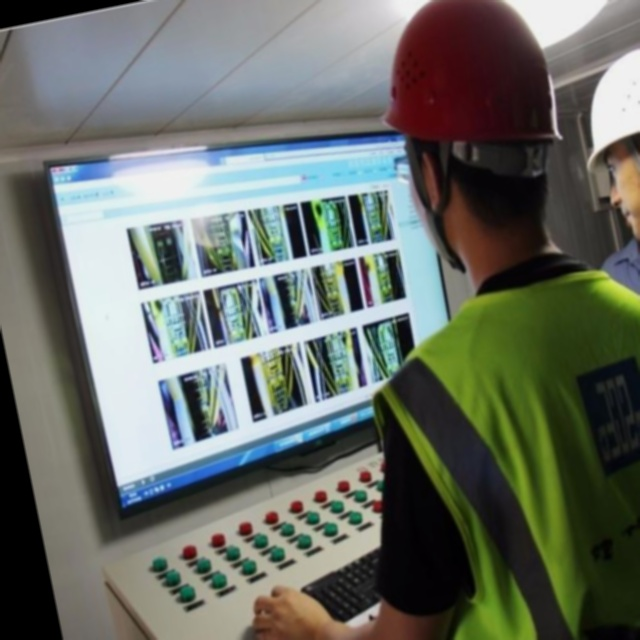Con_Chaleco: (363, 250, 640, 640)
